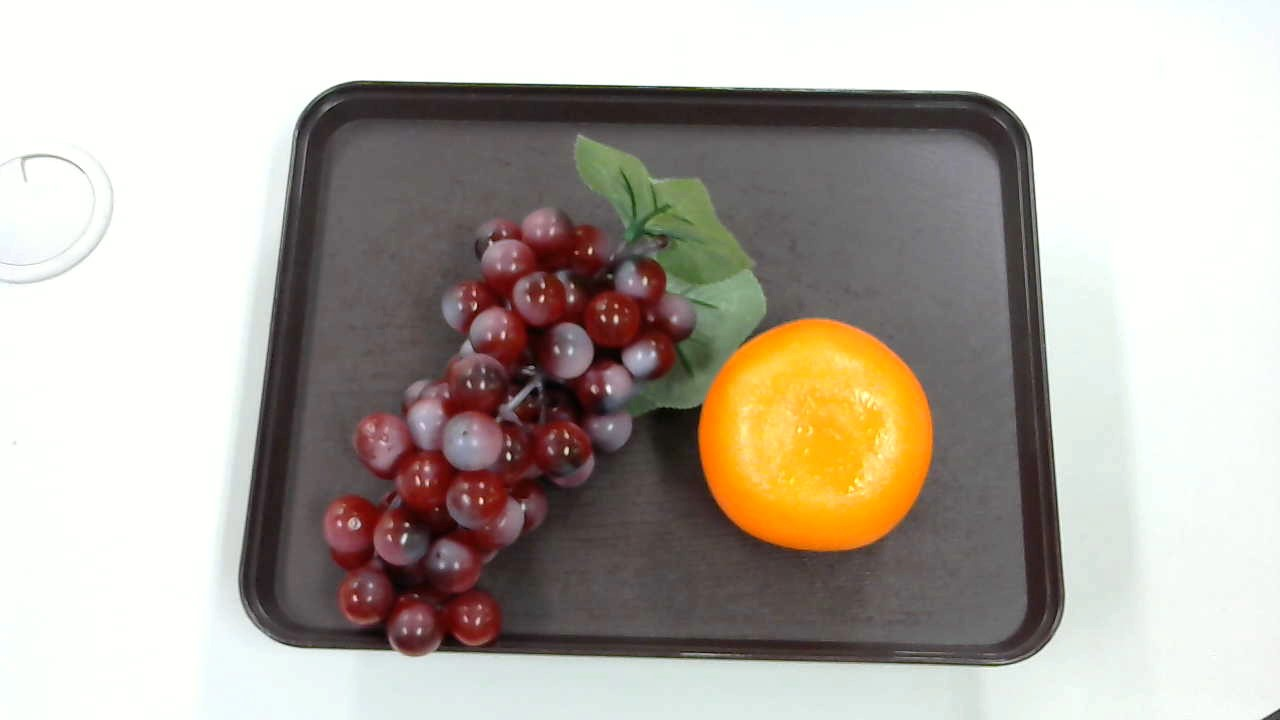grape: (317, 135, 768, 669)
orange: (703, 319, 934, 551)
